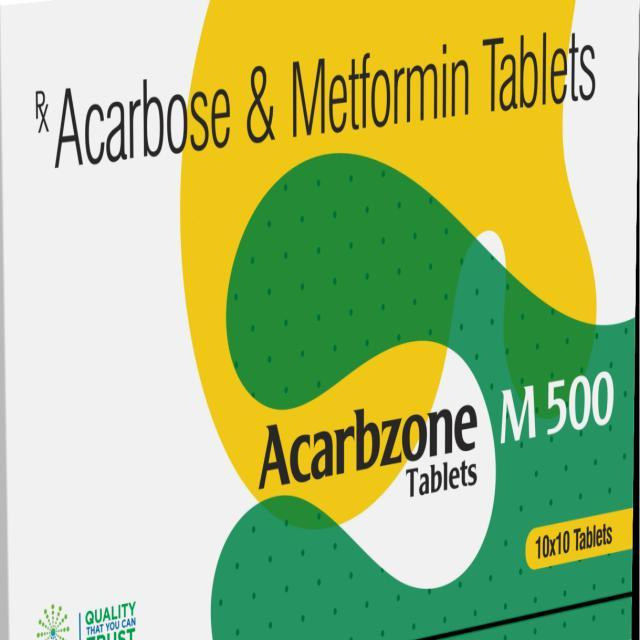drug-name: (253, 368, 614, 493)
